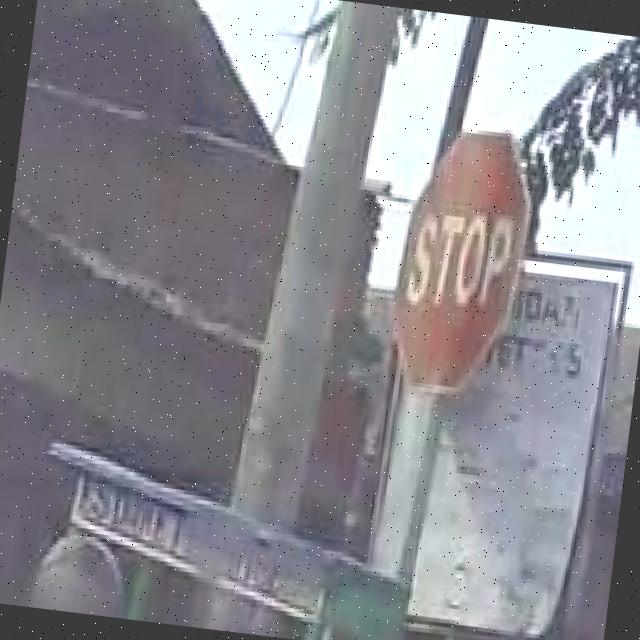Stop: (391, 130, 532, 400)
